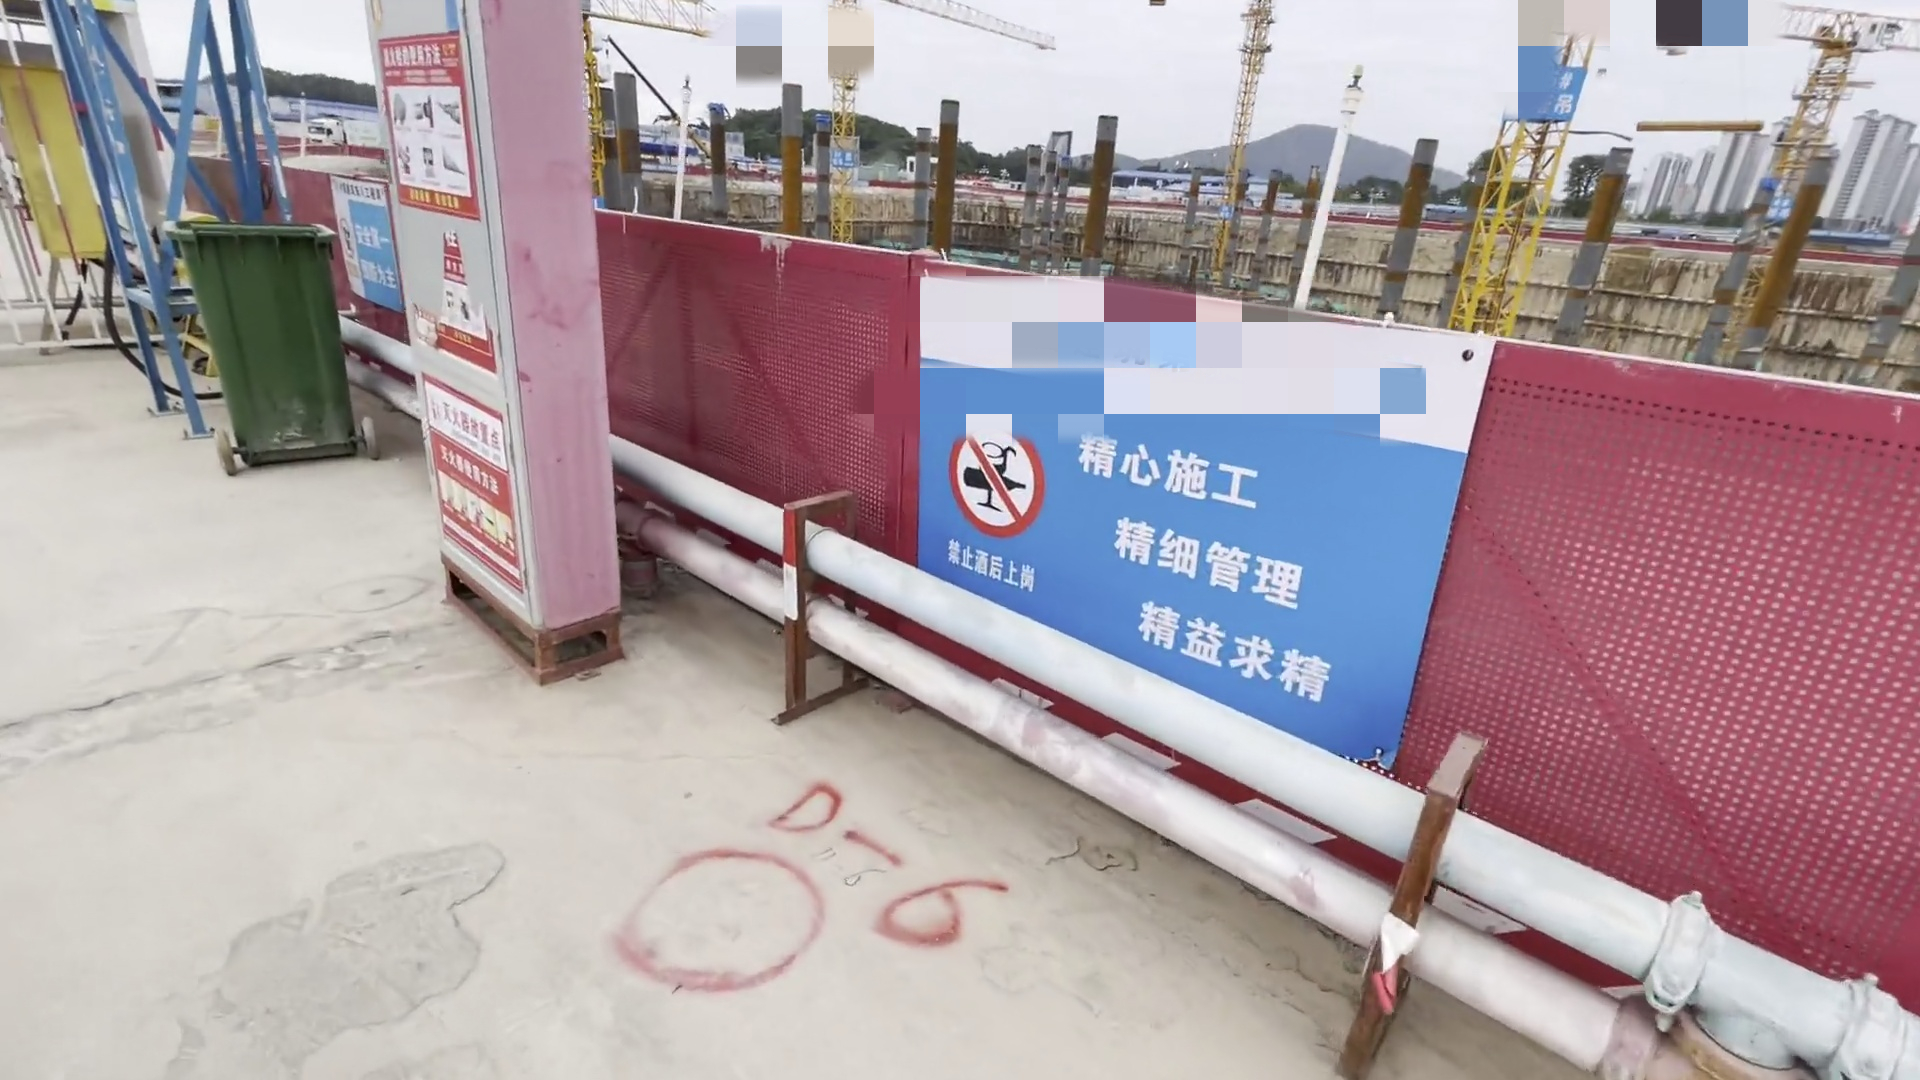ebox: (1, 65, 109, 277)
fence: (225, 128, 1863, 965)
slogan: (919, 303, 1381, 717), (326, 175, 425, 327)
